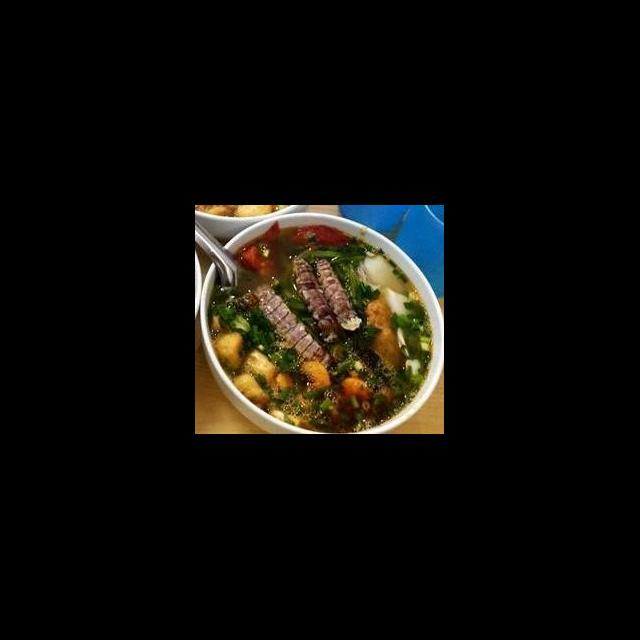dau hu: (210, 328, 250, 372), (230, 369, 272, 406)
tom tit: (246, 280, 334, 370), (288, 252, 342, 346), (312, 256, 366, 334)
